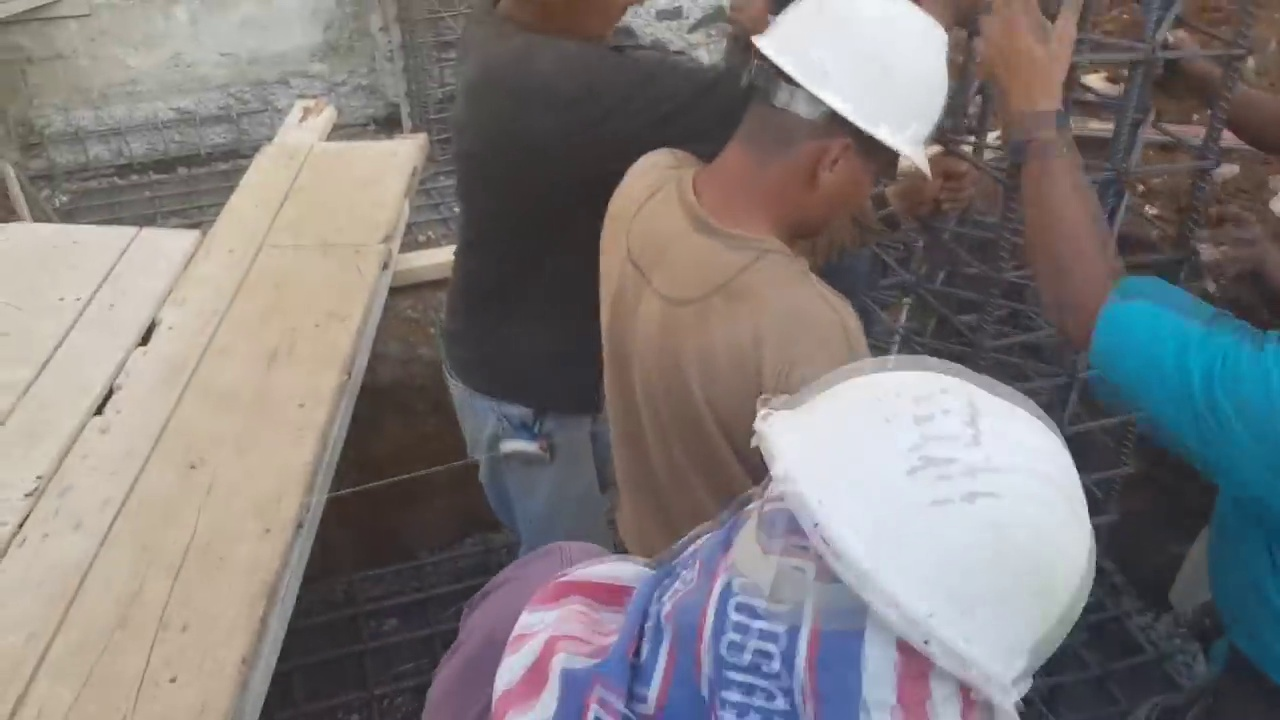helmet: (769, 360, 1096, 633), (754, 0, 948, 183)
helmet-on: (664, 0, 945, 250)
person: (420, 359, 1096, 719), (985, 5, 1280, 710), (619, 2, 948, 560), (440, 9, 753, 557)
